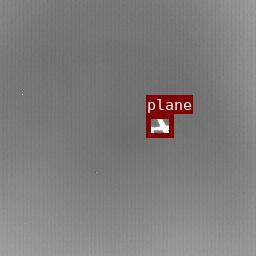plane: (146, 114, 173, 137)
